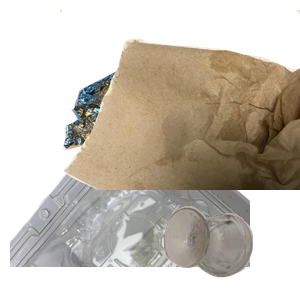glass: (161, 202, 300, 300)
metal: (61, 54, 225, 202)
plastic: (10, 120, 250, 300)
trash: (60, 10, 300, 190)
